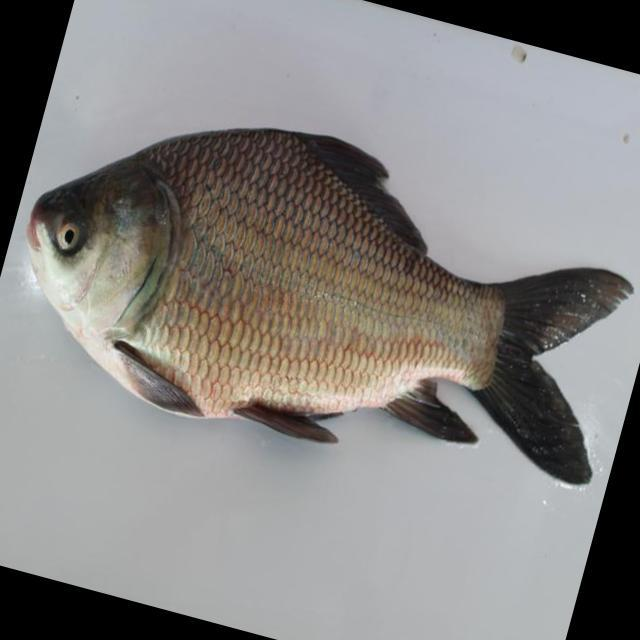Catla: (17, 126, 634, 492)
